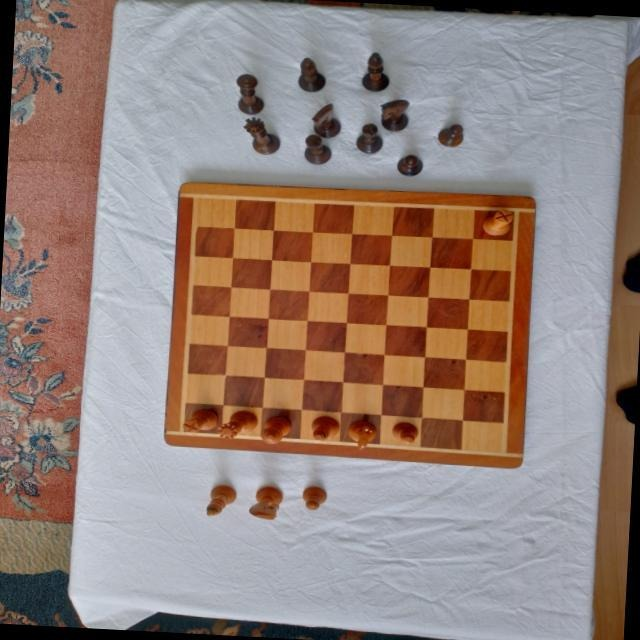black-bishop: (361, 49, 393, 91), (295, 57, 328, 95)
black-king: (232, 74, 268, 117)
black-knight: (379, 93, 413, 131), (310, 101, 344, 139)
black-pawn: (438, 121, 466, 148), (394, 153, 422, 176)
black-queen: (242, 114, 282, 154)
black-rook: (300, 134, 332, 166), (355, 121, 385, 154)
white-bishop: (205, 479, 239, 519), (309, 412, 342, 443)
white-king: (257, 413, 292, 447)
white-knight: (249, 482, 287, 522), (346, 417, 378, 450)
white-pawn: (389, 418, 420, 446), (300, 486, 327, 510)
white-queen: (215, 407, 259, 443)
white-rook: (181, 404, 218, 434), (481, 206, 515, 236)
